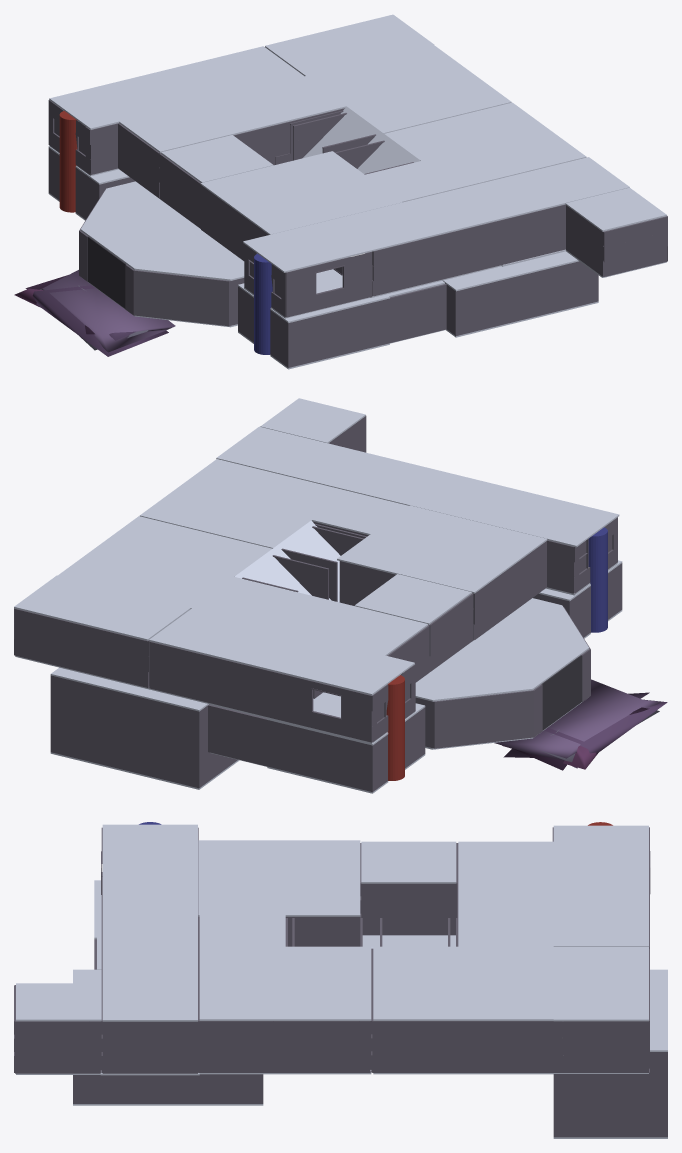
Rendered from Tree.glb.
3 views of the same model, one above another, from view 1: azimuth 30°, elevation 25°; view 2: azimuth 150°, elevation 25°; view 3: azimuth 270°, elevation 25° (orthographic). The views are drawn at different scales.
Visible parts, largest first — view 1: GroupedRoom30, GroupedRoom10, GroupedRoom11, GroupedRoom9, GroupedRoom6, GroupedRoom4, GroupedRoom15, GroupedRoom16, GroupedRoom1, GroupedRoom5, rock, GroupedRoom3 (+14 smaller); view 2: GroupedRoom26, GroupedRoom30, GroupedRoom3, GroupedRoom2, GroupedRoom1, GroupedRoom15, GroupedRoom6, GroupedRoom11, rock, GroupedRoom4, GroupedRoom14, GroupedRoom9 (+14 smaller); view 3: GroupedRoom6, GroupedRoom9, GroupedRoom3, GroupedRoom7, GroupedRoom26, GroupedRoom17, GroupedRoom16, GroupedRoom8, GroupedRoom14, GroupedRoom10, GroupedRoom2, GroupedRoom5 (+8 smaller).
Part boxes in pixels (bbox=[...]): GroupedRoom30: bbox=[79, 181, 244, 327]; GroupedRoom10: bbox=[333, 188, 501, 297]; GroupedRoom11: bbox=[243, 219, 373, 318]; GroupedRoom9: bbox=[461, 157, 629, 266]; GroupedRoom6: bbox=[346, 45, 511, 133]; GroupedRoom4: bbox=[118, 94, 274, 198]; GroupedRoom15: bbox=[200, 166, 341, 260]; GroupedRoom16: bbox=[565, 187, 667, 277]; GroupedRoom1: bbox=[48, 77, 175, 176]; GroupedRoom5: bbox=[233, 62, 401, 164]; rock: bbox=[14, 270, 175, 356]; GroupedRoom3: bbox=[265, 14, 434, 76]; GroupedRoom26: bbox=[50, 667, 239, 789]; GroupedRoom30: bbox=[415, 598, 590, 749]; GroupedRoom3: bbox=[14, 575, 190, 689]; GroupedRoom2: bbox=[149, 608, 325, 721]; GroupedRoom1: bbox=[282, 641, 415, 743]; GroupedRoom15: bbox=[400, 521, 547, 641]; GroupedRoom6: bbox=[58, 516, 271, 593]; GroupedRoom11: bbox=[483, 491, 619, 595]; rock: bbox=[494, 679, 667, 770]; GroupedRoom4: bbox=[266, 595, 429, 682]; GroupedRoom14: bbox=[337, 505, 472, 605]; GroupedRoom9: bbox=[216, 426, 392, 490]; GroupedRoom6: bbox=[371, 946, 553, 1074]; GroupedRoom9: bbox=[100, 947, 199, 1075]; GroupedRoom3: bbox=[549, 947, 649, 1073]; GroupedRoom7: bbox=[284, 946, 371, 1074]; GroupedRoom26: bbox=[553, 969, 667, 1138]; GroupedRoom17: bbox=[360, 841, 457, 935]; GroupedRoom16: bbox=[14, 983, 101, 1074]; GroupedRoom8: bbox=[198, 983, 285, 1074]; GroupedRoom14: bbox=[198, 880, 360, 946]; GroupedRoom10: bbox=[101, 875, 198, 948]; GroupedRoom2: bbox=[553, 874, 649, 948]; GroupedRoom5: bbox=[457, 906, 553, 978].
Size of what is drawn, in the model's own units: 65.14 by 16.67 by 68.64.
